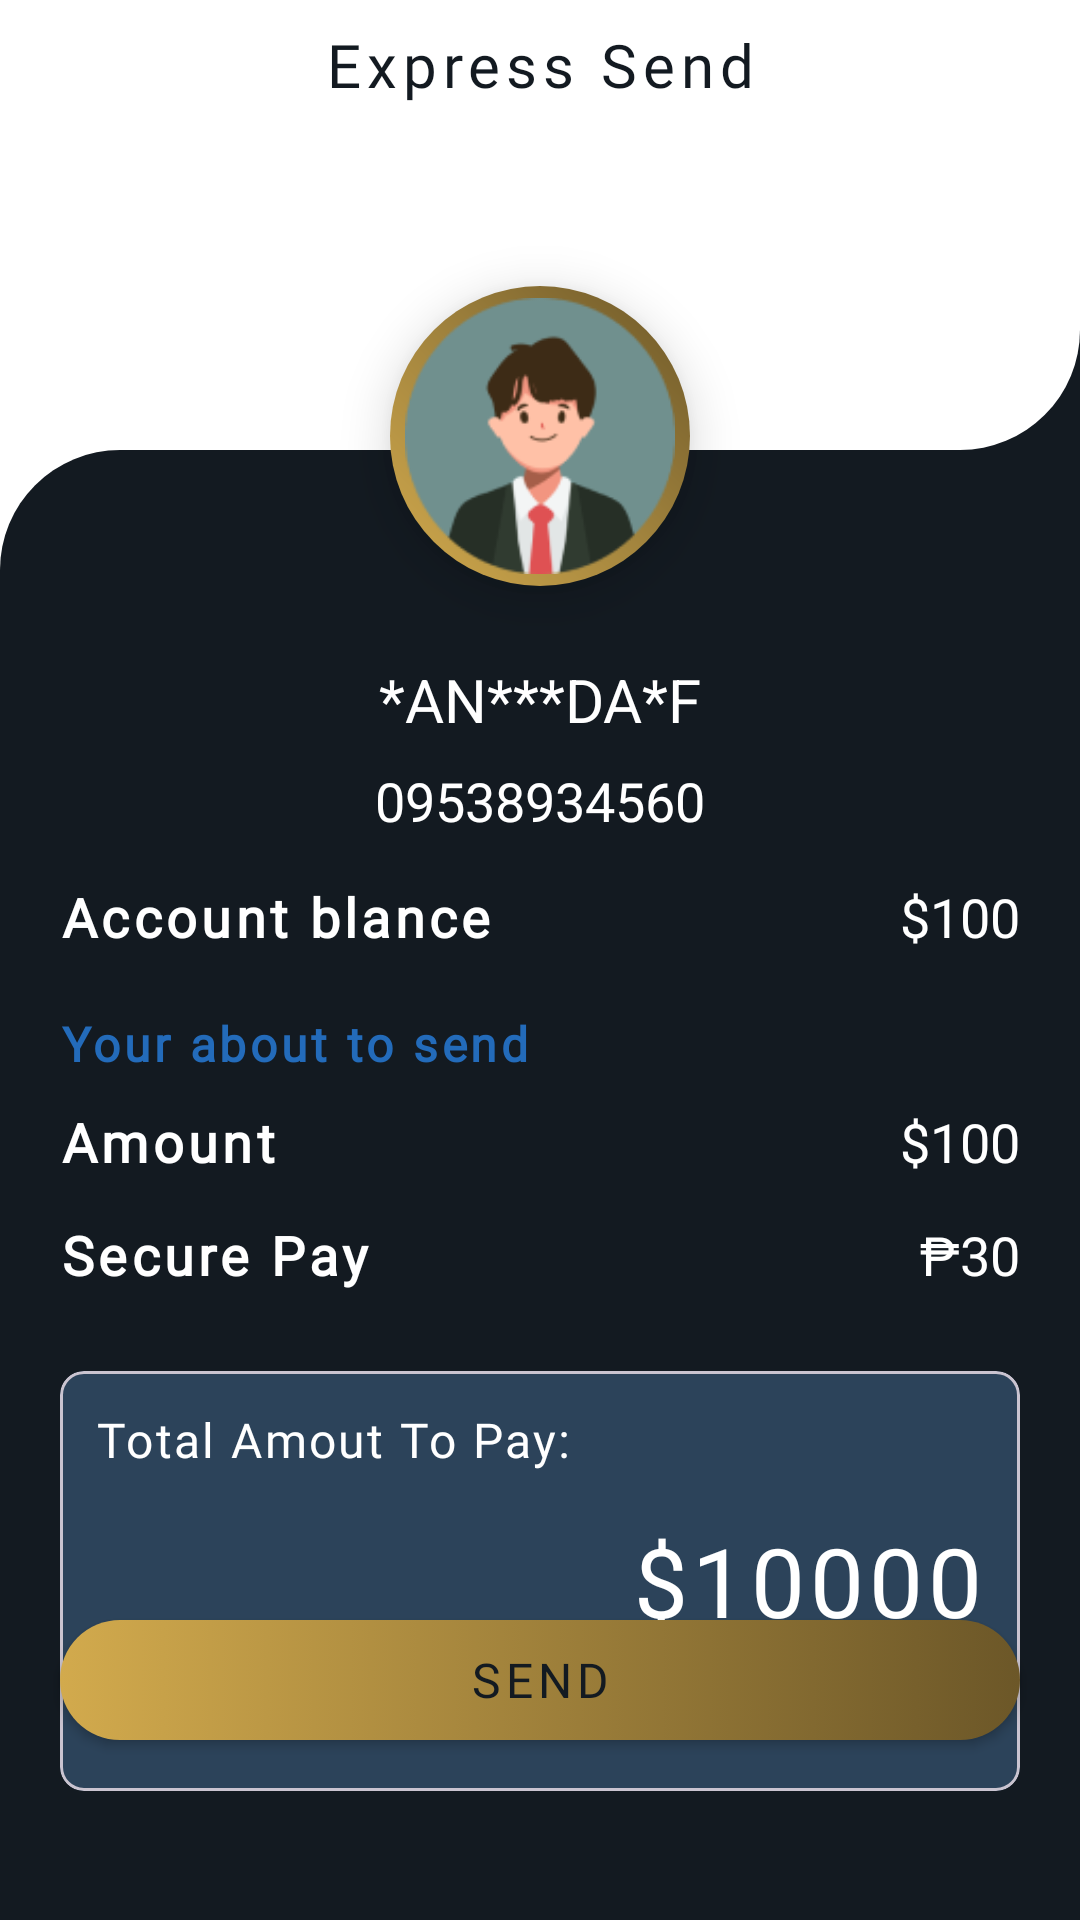

Icons on this 1080x1920 Android screen, each with the point to tap as point (x, y):
user: point (540, 436)
